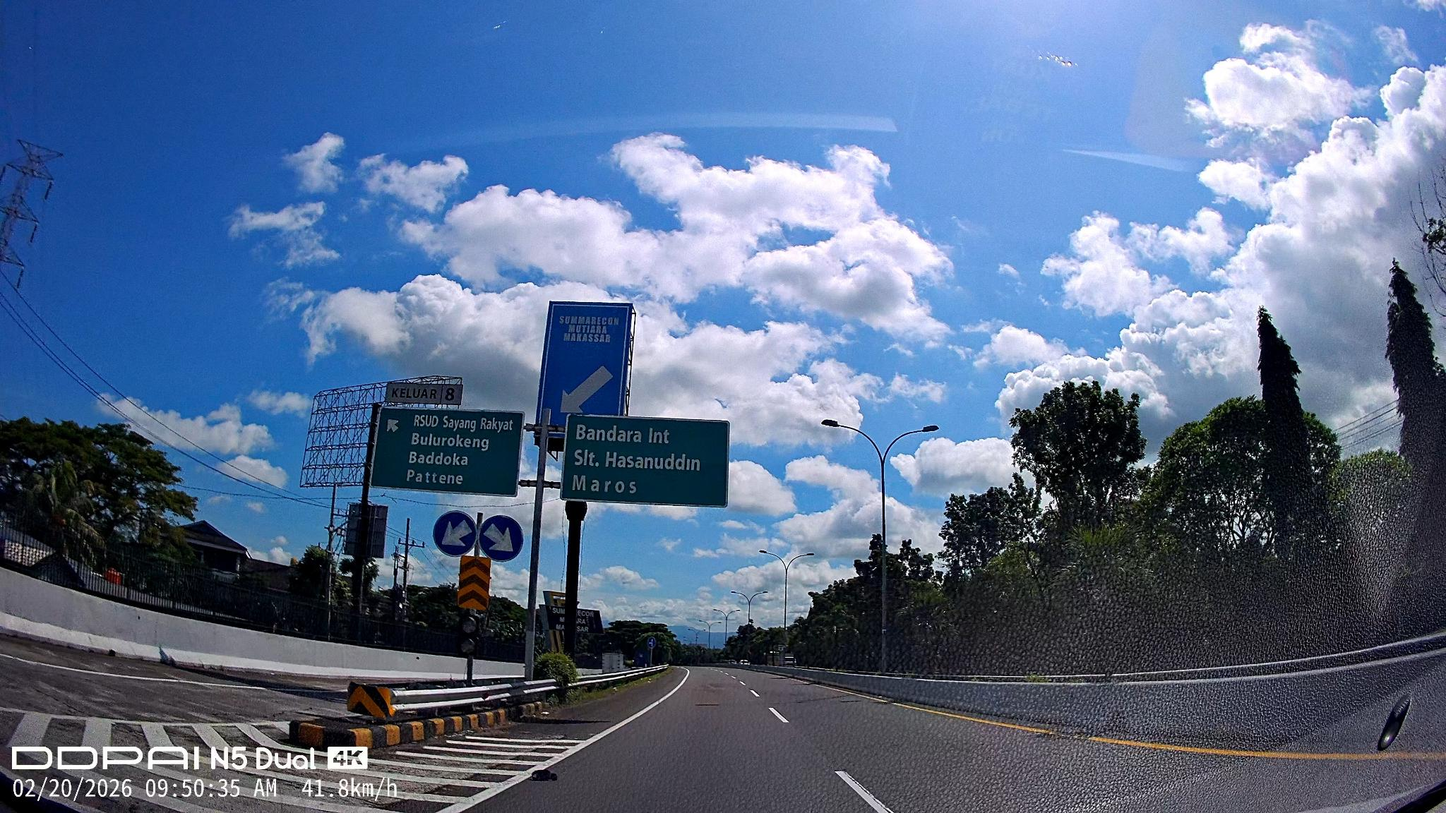rambu_teks: (559, 412, 735, 509), (368, 405, 526, 498)
